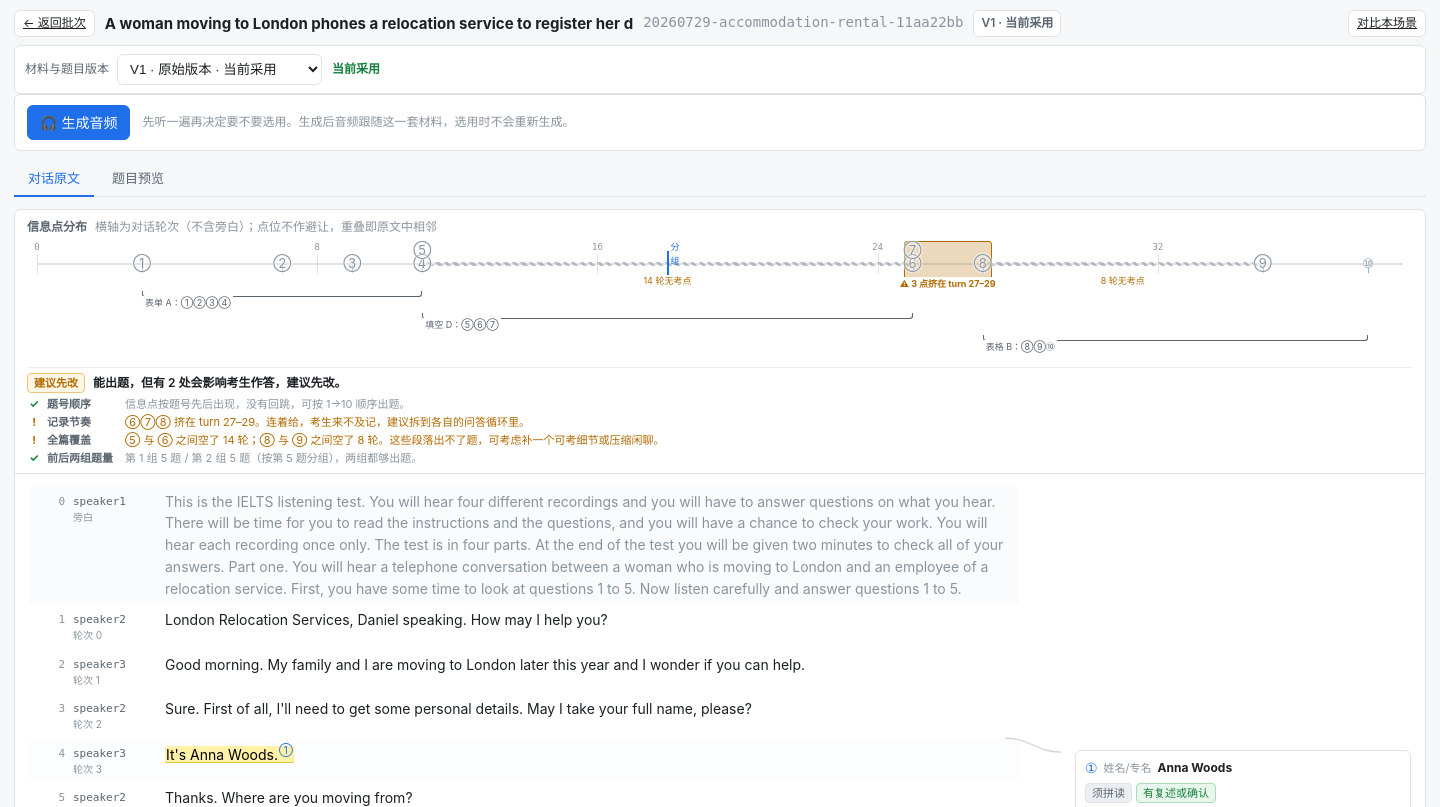
Scenario: MaterialPage 页签 › 点原文轮次会切回对话原文页签并滚到那一句
Click the tab "题目预览" at (138, 179), box [98,161,178,197]
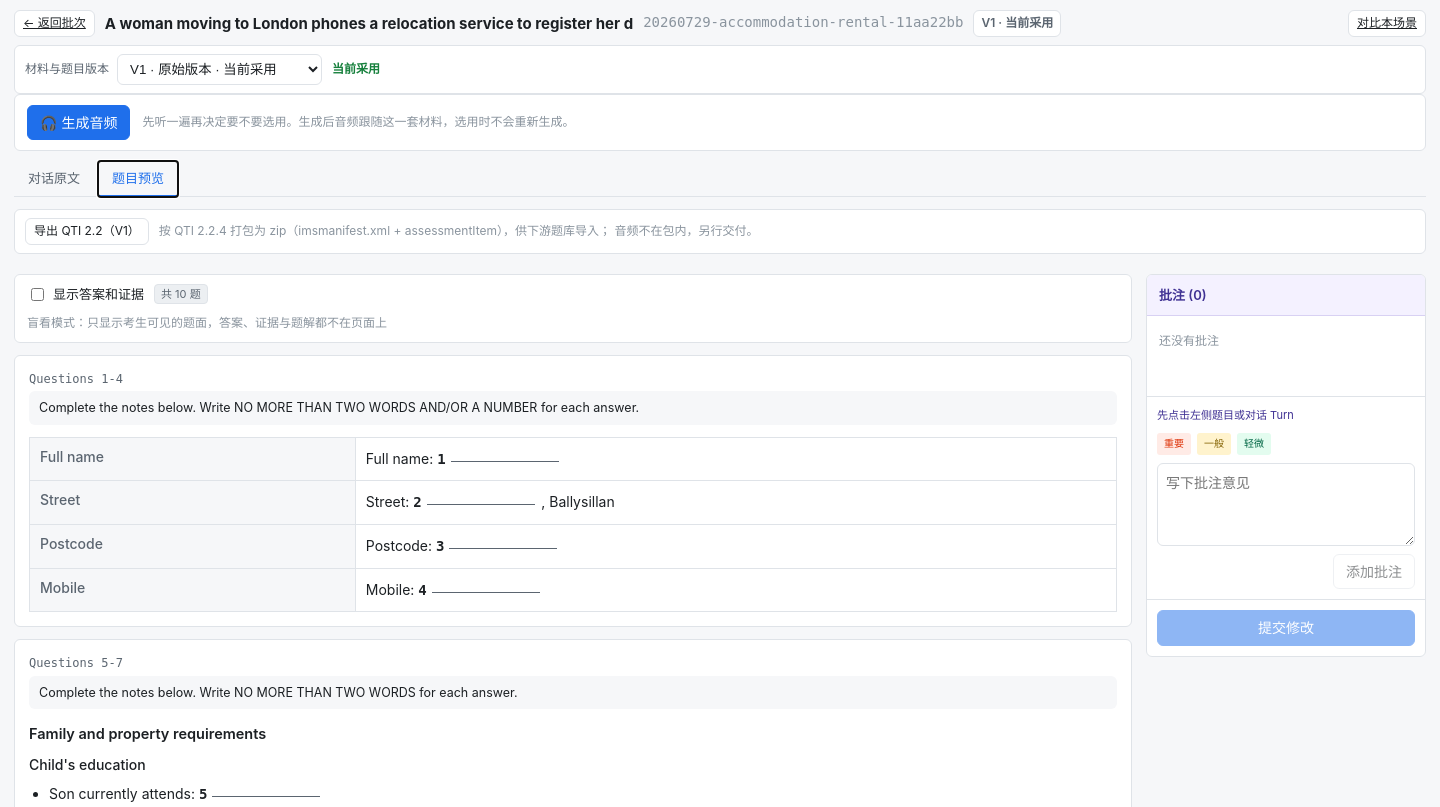
Click the checkbox labelled "显示答案和证据" at (38, 294), box [31,288,44,301]
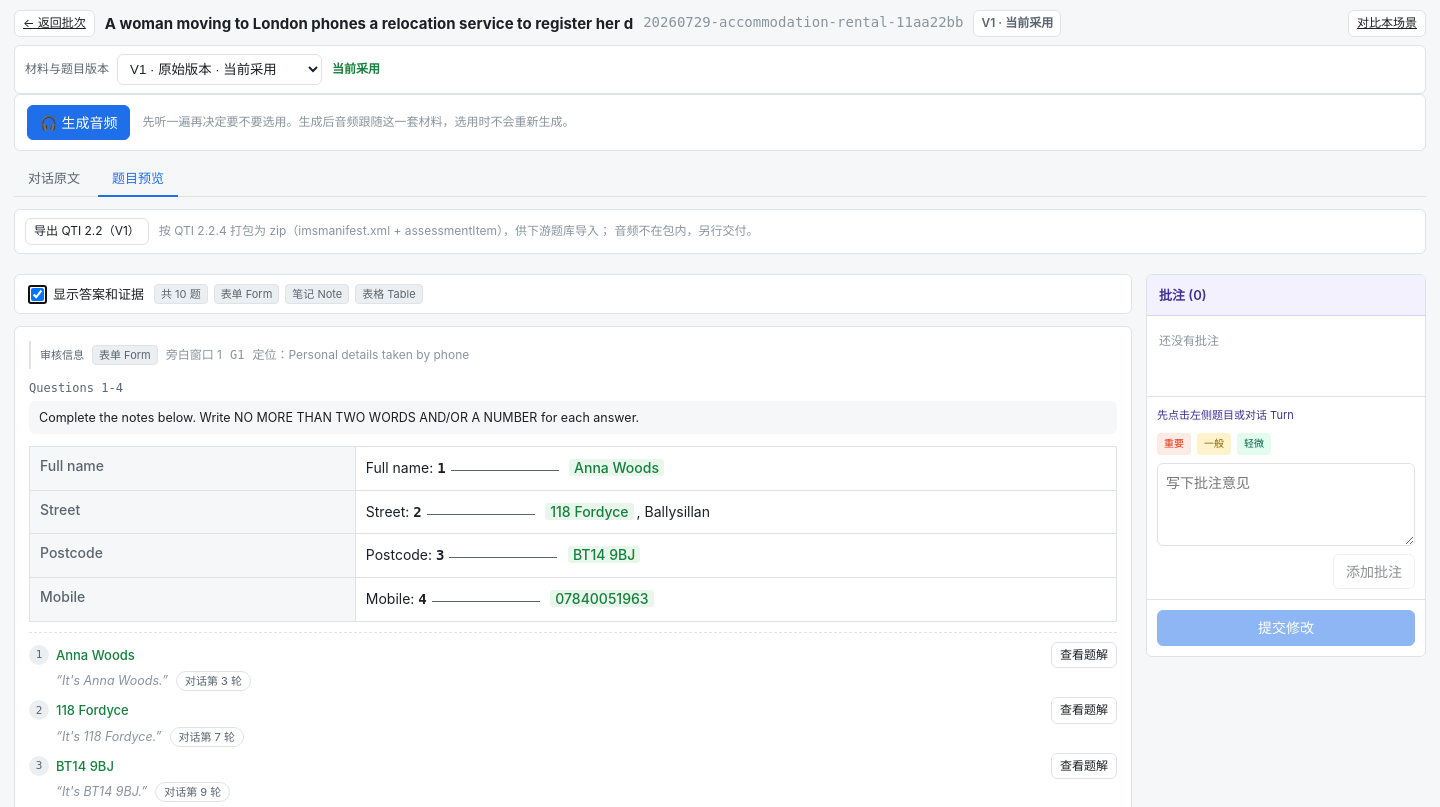
Result: the button "对话第 3 轮" is shown
Click the button "对话第 3 轮" at (213, 681), box [176,671,251,691]
(page scrolled)
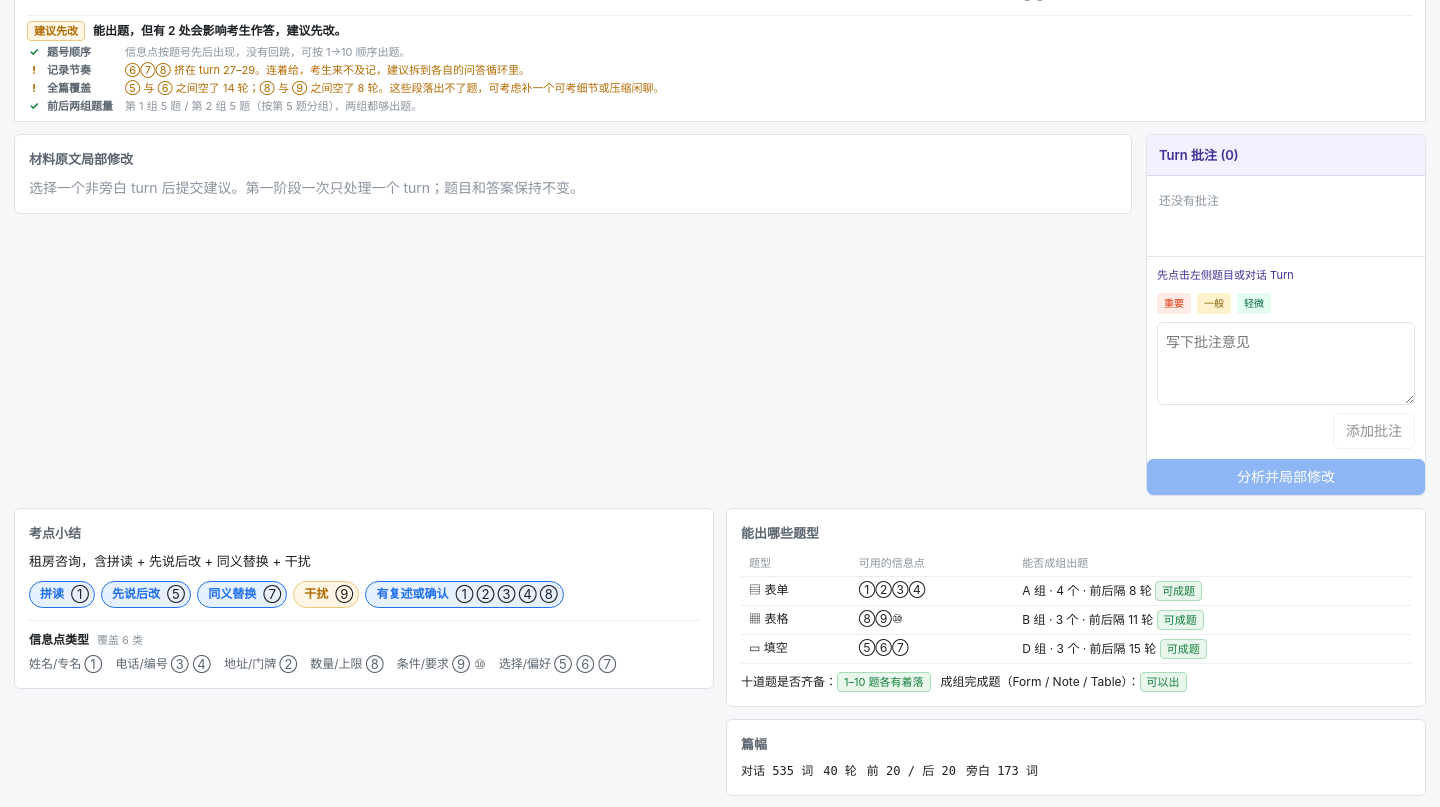
Result: the element with class "exam-points" is shown at [14,508,714,689]
